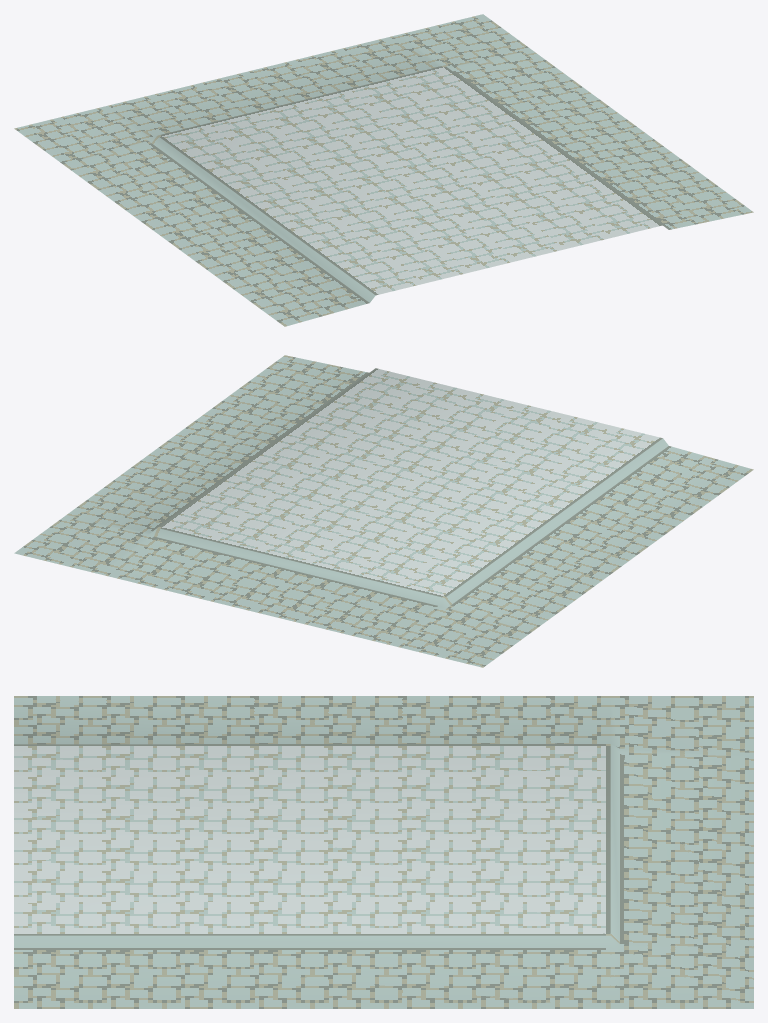
File: Urban_Street_End.gltf
3 views of the same model, one above another, from view 1: azimuth 30°, elevation 25°; view 2: azimuth 150°, elevation 25°; view 3: azimuth 270°, elevation 25° (orthographic). The views are drawn at different scales.
Size of the model in its own units: 10 by 0.1887 by 10.
1 material, 1 textured.
